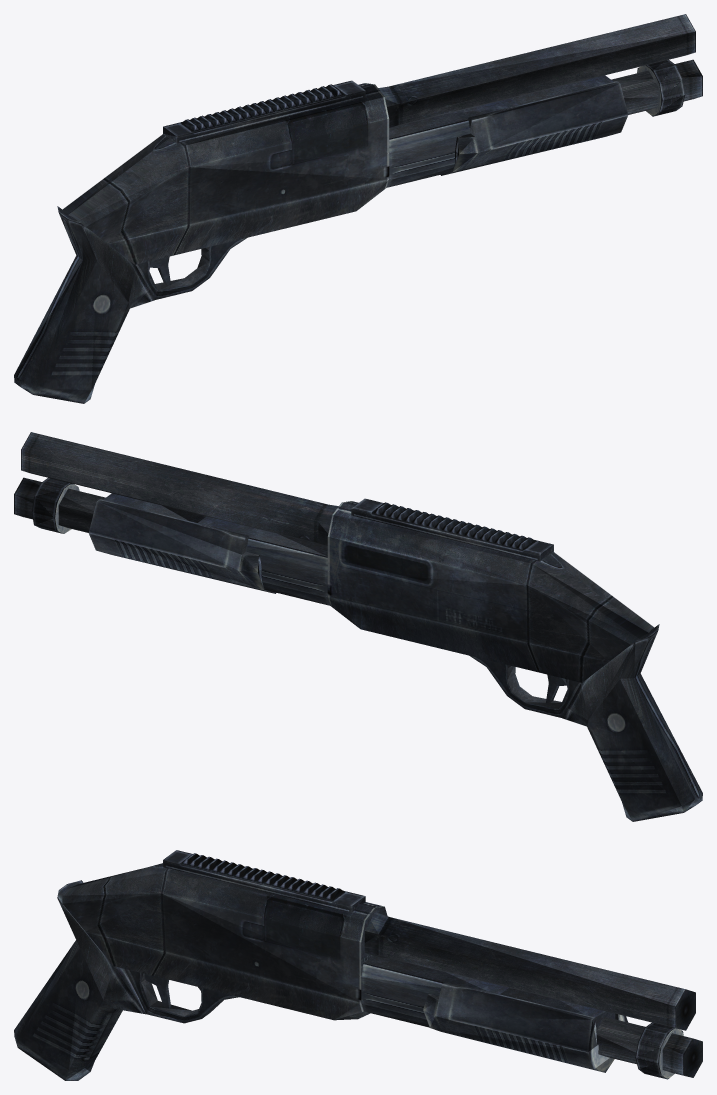
Rendered from ShotGun.FBX.
3 views of the same model, one above another, from view 1: azimuth 30°, elevation 25°; view 2: azimuth 150°, elevation 25°; view 3: azimuth 330°, elevation 25° (orthographic).
Parts seen in each view (by area): view 1: Shotgun_Mesh; view 2: Shotgun_Mesh; view 3: Shotgun_Mesh.
Part boxes in pixels (left/top/right/bottom): Shotgun_Mesh: left=14, top=14, right=702, bottom=403; Shotgun_Mesh: left=14, top=432, right=702, bottom=821; Shotgun_Mesh: left=14, top=850, right=702, bottom=1080.
Size of the model in its own units: 65.79 by 22.88 by 7.21.
